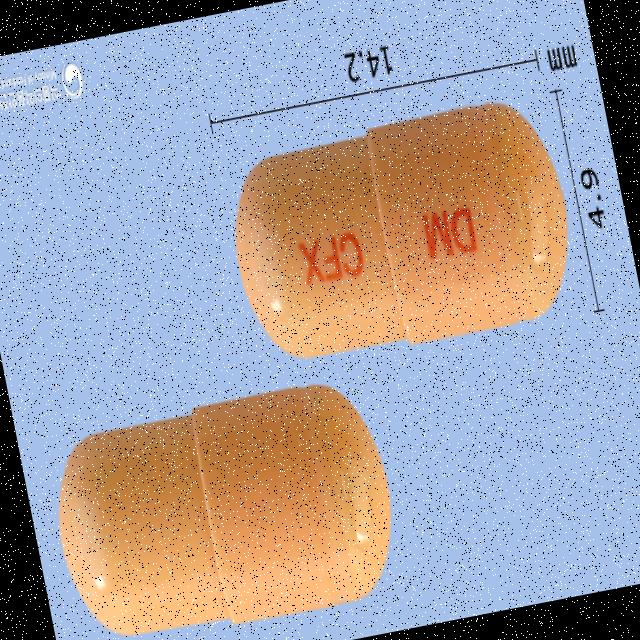Fixima: (217, 95, 587, 376), (37, 371, 407, 640)
